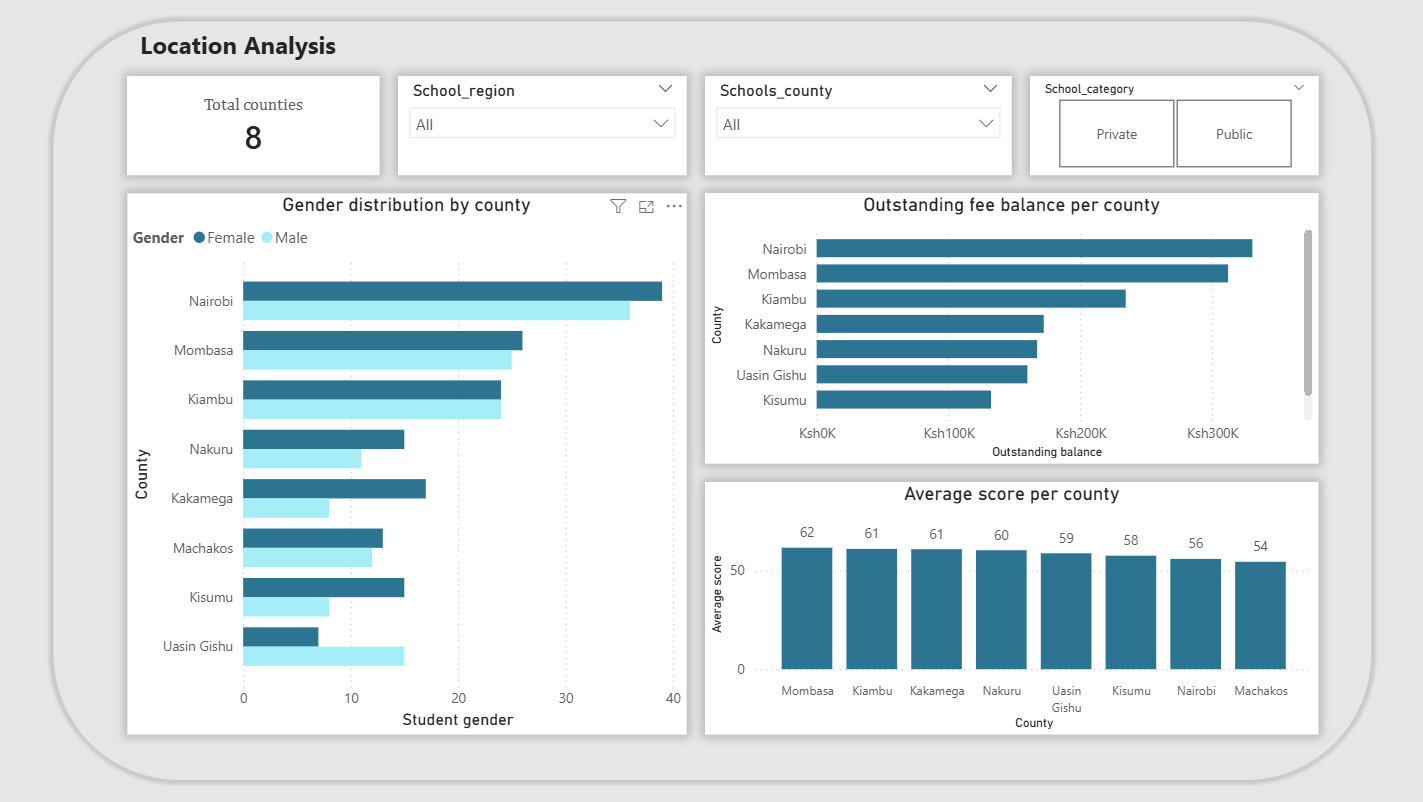

What the dashboard file says about the page in this screenshot:
{"tool":"powerbi","page":{"name":"Location based analysis","canvas":[1280,720],"ordinal":4},"visuals":[{"type":"cardVisual","fields":{"Data":["Count(Dim_school.Cleaned_school_county)"]},"box":[128,72,224,88],"z":0},{"type":"clusteredColumnChart","title":"Average score per county","fields":{"Category":["Dim_school.Cleaned_school_county"],"Y":["Avg(Fact_performance.score)"]},"box":[640,432,544,224],"z":1000},{"type":"clusteredBarChart","title":"Outstanding fee balance per county","fields":{"Category":["Dim_school.Cleaned_school_county"],"Y":["Sum(Fact_performance.fee_balance_kes)"]},"box":[640,176,544,240],"z":2000},{"type":"clusteredBarChart","title":"Gender distribution by county","fields":{"Category":["Dim_school.Cleaned_school_county"],"Series":["Dim_student.Cleaned_student _gender"],"Y":["CountNonNull(Dim_student.Cleaned_student _gender)"]},"box":[128,176,496,480],"z":3000},{"type":"slicer","fields":{"Values":["Dim_school.Cleaned_school_region"]},"box":[368,72,256,88],"z":4000},{"type":"slicer","fields":{"Values":["Dim_school.cleaned_school_type"]},"box":[928,72,256,88],"z":5000},{"type":"slicer","fields":{"Values":["Dim_school.Cleaned_school_county"]},"box":[640,72,272,88],"z":6000},{"type":"textbox","box":[120,24,352,48],"z":7000}]}

Visuals, with their boxes in screenshot pixels (x1, y1, x2, y2), scaled from the page's 1280x720 canvas onto the 1423x802 screenshot:
cardVisual - Count(Dim_school.Cleaned_school_county): [142, 80, 391, 178]
"Average score per county" clusteredColumnChart: [712, 481, 1316, 731]
"Outstanding fee balance per county" clusteredBarChart: [712, 196, 1316, 463]
"Gender distribution by county" clusteredBarChart: [142, 196, 694, 731]
slicer - Dim_school.Cleaned_school_region: [409, 80, 694, 178]
slicer - Dim_school.cleaned_school_type: [1032, 80, 1316, 178]
slicer - Dim_school.Cleaned_school_county: [712, 80, 1014, 178]
textbox: [133, 27, 525, 80]
